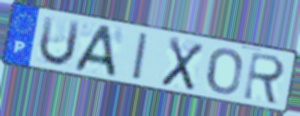A: (72, 24, 118, 78)
I: (131, 30, 150, 83)
O: (205, 47, 244, 96)
R: (240, 50, 288, 108)
U: (36, 14, 83, 68)
X: (158, 35, 206, 93)
